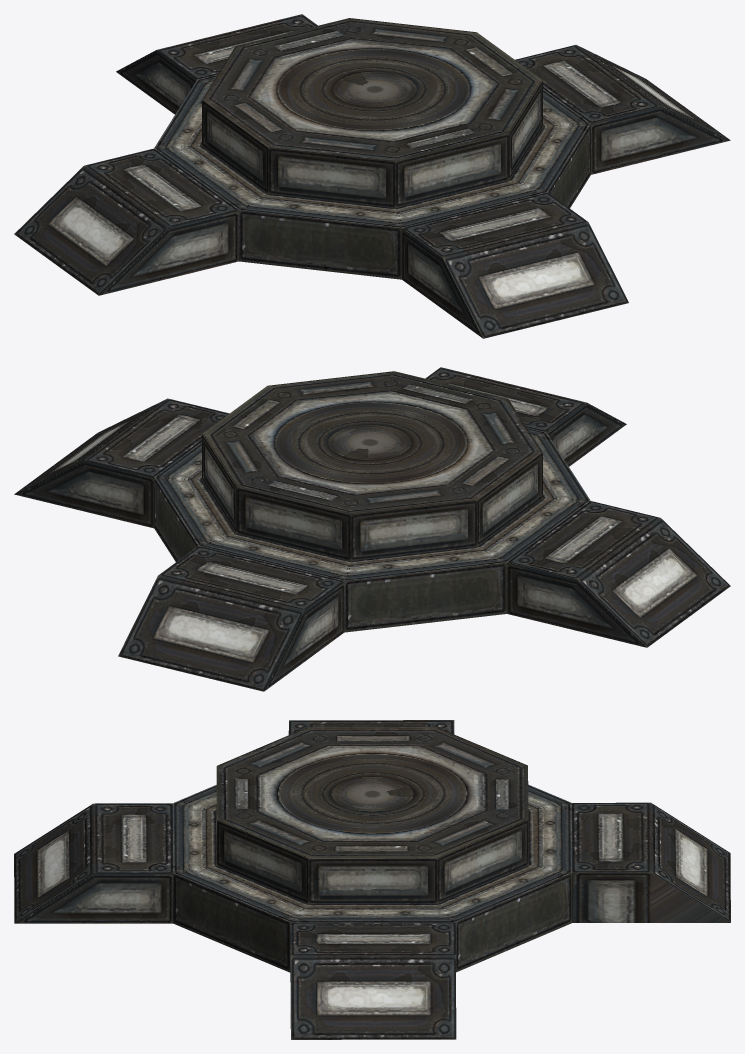
Rendered from MOBILE_TURRET_PACK_1_BASE.FBX.
3 views of the same model, one above another, from view 1: azimuth 30°, elevation 25°; view 2: azimuth 150°, elevation 25°; view 3: azimuth 270°, elevation 25° (orthographic). The views are drawn at different scales.
Visible parts, largest first — view 1: Turret_Base; view 2: Turret_Base; view 3: Turret_Base.
Boxes of the visible parts, x1,y1,x2,y2 form: Turret_Base: (14, 14, 730, 338); Turret_Base: (14, 367, 730, 691); Turret_Base: (14, 720, 730, 1039).
Bounding box in the file's own units: 74.52 × 10.94 × 74.52.
